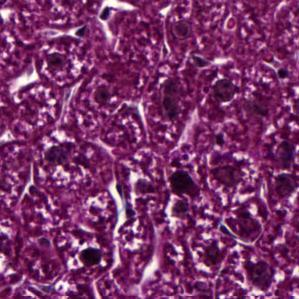inflammation: (34, 131, 77, 175), (206, 73, 245, 110), (162, 192, 195, 229), (71, 241, 106, 274)
